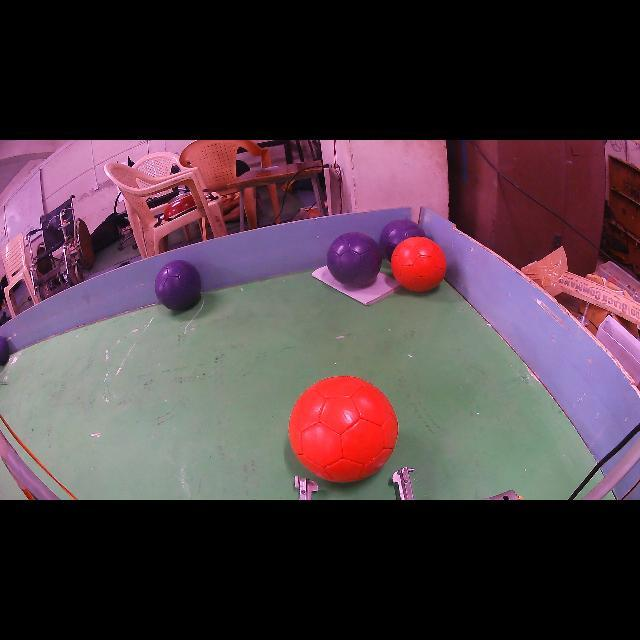P: (326, 232, 382, 288), (155, 260, 201, 310), (379, 219, 425, 261)
R: (289, 376, 398, 482), (391, 236, 446, 291)
